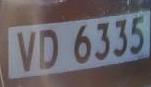3: (92, 20, 112, 60), (112, 17, 129, 58)
5: (129, 14, 147, 56)
6: (70, 21, 96, 68)
D: (38, 25, 63, 74)
V: (13, 28, 38, 77)
